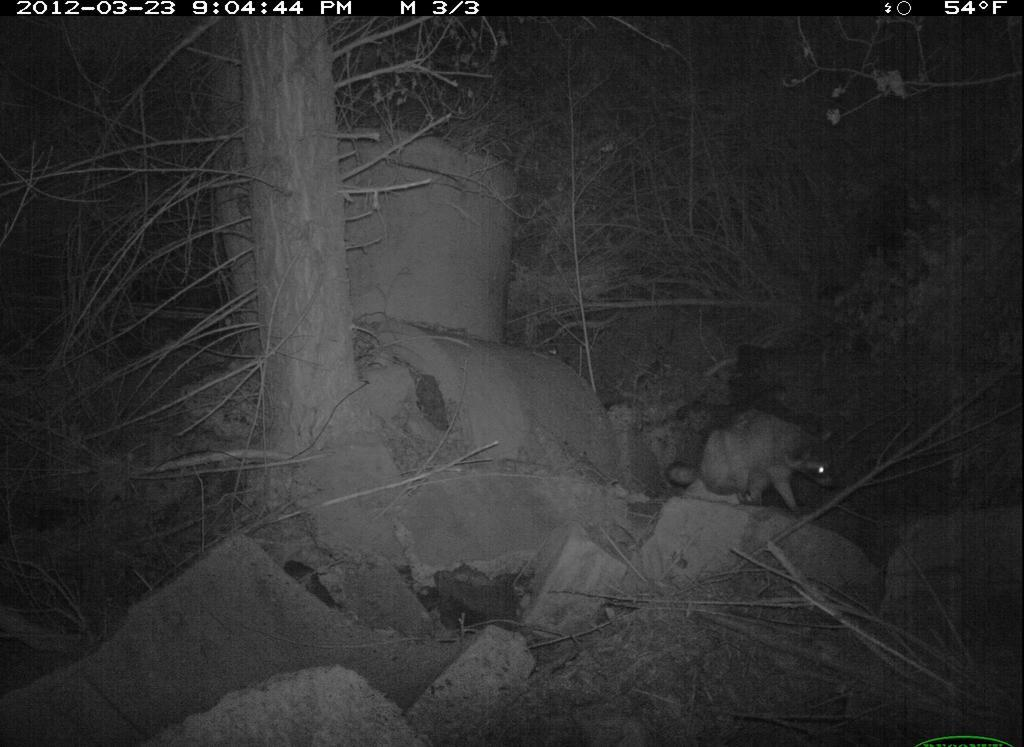raccoon: (666, 402, 849, 527)
